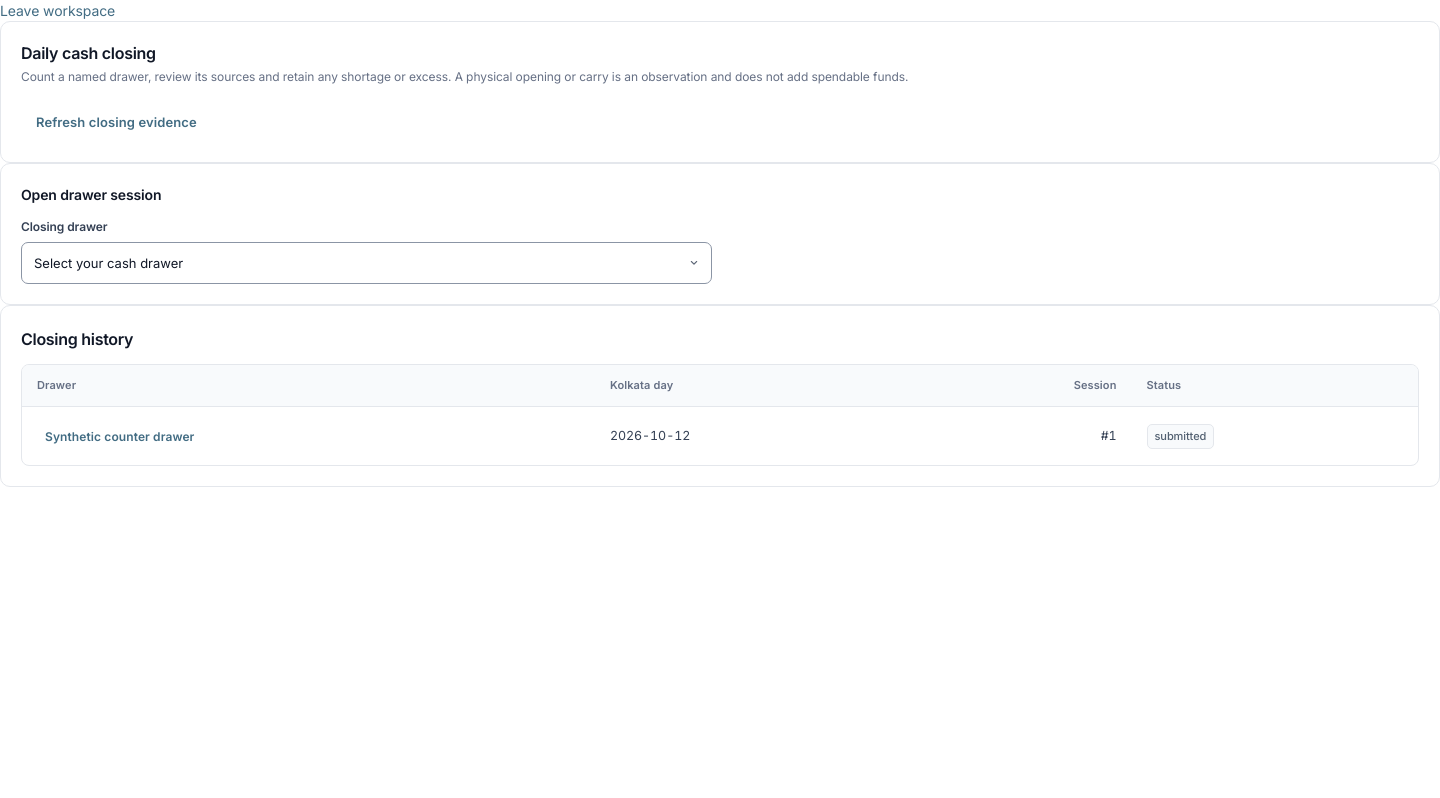
Scenario: cash closing controlled transport and evidence validation › renders a current administrator ending count while retaining another active opening observer
This screenshot has width=1440, height=798.
What coordinates should you click on to do the following:
click the button with aria-label "Synthetic counter drawer ·"
I would click on:
 (120, 436)
Its box is [37,419,202,453].
(page scrolled)
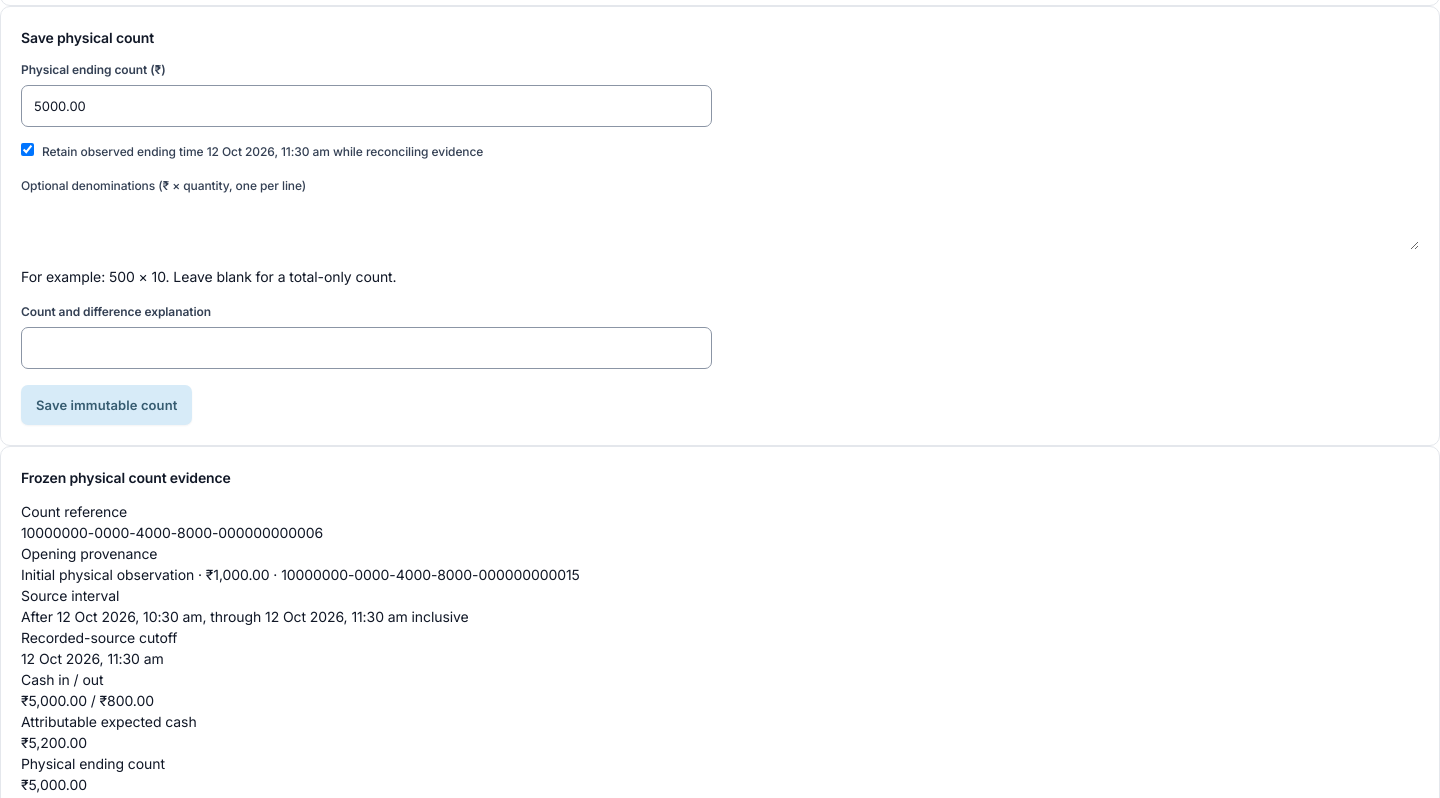
Expected: the button "Save immutable count" is enabled, [21,385,192,425]
